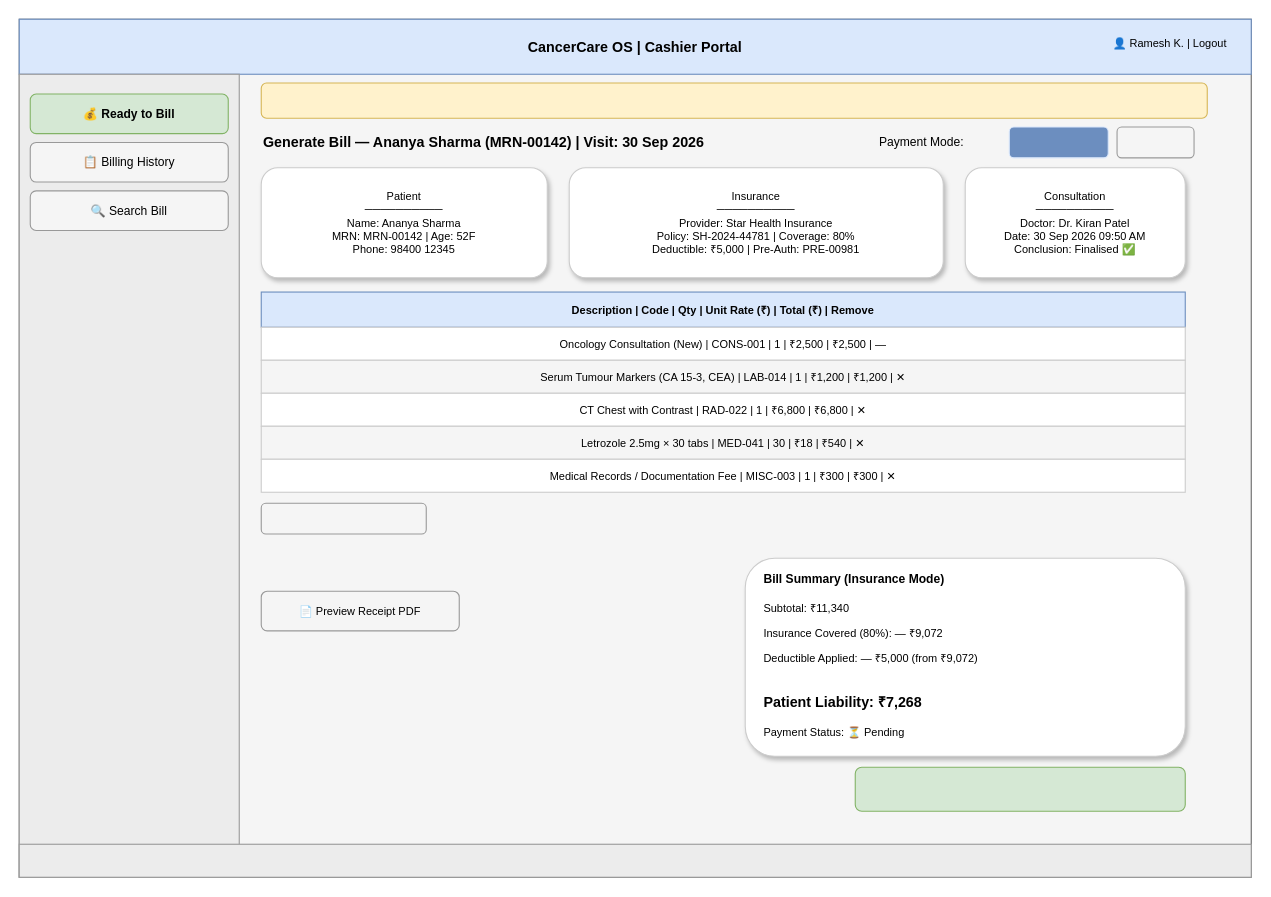
Image size: 1271x897. Some labels were removed from this diagram. The centre of each missing label's shape, as x and y in pixels:
"+ Add Line Item" belongs at [343,518].
"CancerCare OS v1.0 | Connected ● Live | Tue 30 Sep 2026 10:30 AM" belongs at [634,860].
"Cash" belongs at [1155,142].
"Insurance" belongs at [1058,142].
"✅ Mark as Paid & Issue Receipt" belongs at [1019,788].
"🔔 New: Ananya Sharma (MRN-00142) — Consultation concluded. Ready for billing." belongs at [733,100].
